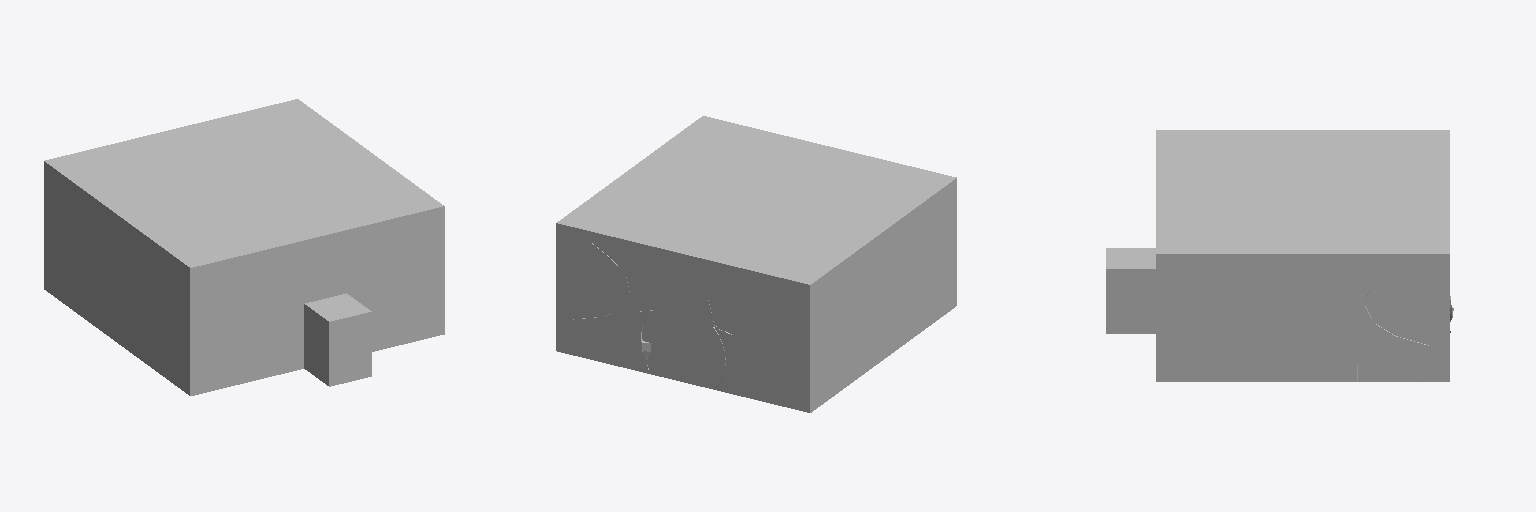
Rendered from PAC.obj.
3 renders of one model, left to right at view 1: azimuth 30°, elevation 25°; view 2: azimuth 150°, elevation 25°; view 3: azimuth 270°, elevation 25°, orthographic.
Visible parts, largest first — view 1: TMD object #5, VRAM page #9, TMD object #5, VRAM page #7, TMD object #5, VRAM page #6, TMD object #6, untextured, TMD object #5, VRAM page #10; view 2: TMD object #5, VRAM page #9, TMD object #5, VRAM page #5, TMD object #5, VRAM page #6; view 3: TMD object #5, VRAM page #8, TMD object #5, VRAM page #9, TMD object #6, untextured.
Part boxes in pixels (bbox=[...]): TMD object #5, VRAM page #9: bbox=[45, 99, 443, 267]; TMD object #5, VRAM page #7: bbox=[190, 206, 444, 395]; TMD object #5, VRAM page #6: bbox=[44, 161, 189, 395]; TMD object #6, untextured: bbox=[304, 293, 371, 386]; TMD object #5, VRAM page #10: bbox=[302, 278, 348, 304]; TMD object #5, VRAM page #9: bbox=[557, 116, 956, 284]; TMD object #5, VRAM page #5: bbox=[556, 223, 809, 412]; TMD object #5, VRAM page #6: bbox=[810, 178, 956, 412]; TMD object #5, VRAM page #8: bbox=[1156, 254, 1449, 381]; TMD object #5, VRAM page #9: bbox=[1156, 130, 1449, 253]; TMD object #6, untextured: bbox=[1106, 248, 1155, 333].
Size of the model in its own units: 120 by 57.61 by 141.